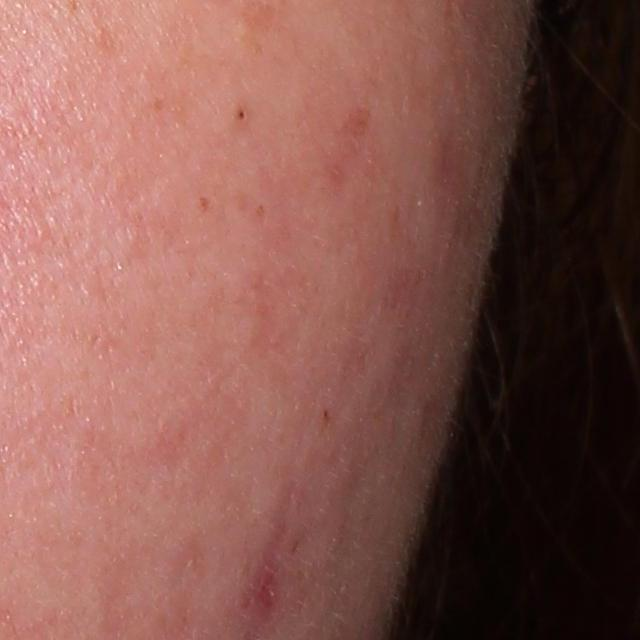comedo: (229, 102, 253, 126)
melasma: (199, 194, 212, 215)
